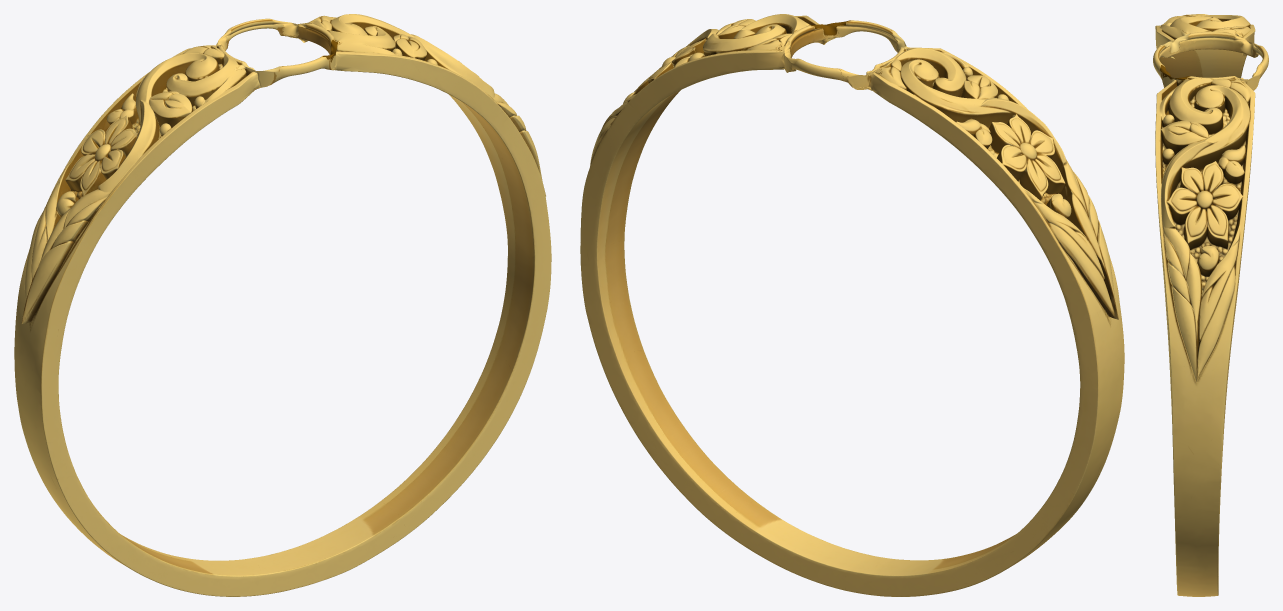
Rendered from nodiamond10.glb.
The picture shows the model from 3 angles, left to right: view 1: azimuth 30°, elevation 25°; view 2: azimuth 150°, elevation 25°; view 3: azimuth 270°, elevation 25°; orthographic projection. The views are drawn at different scales.
Bounding box in the file's own units: 1.9 × 1.87 × 0.3792.
Materials: 1 (1 with a texture image).
